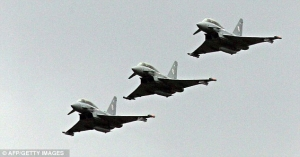flight: (187, 16, 282, 59), (122, 60, 218, 101), (60, 96, 156, 137)
